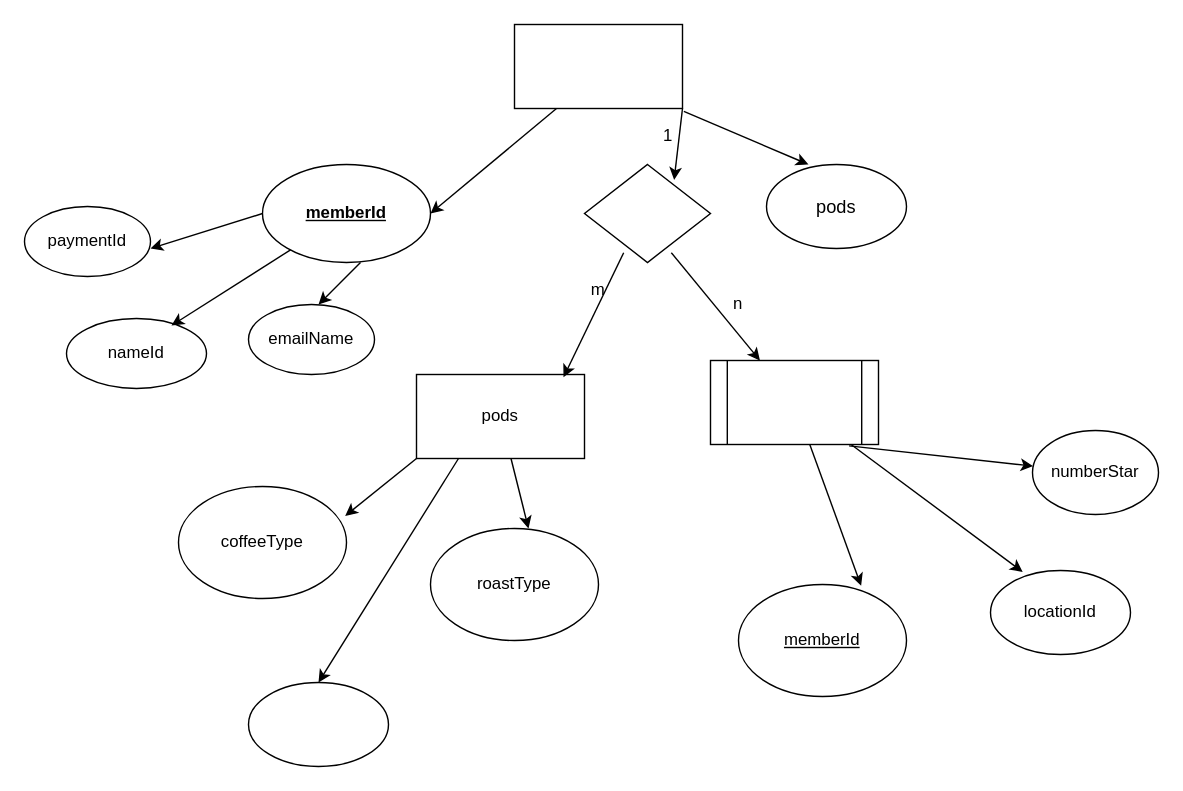
Image size: 1183x791. Some labels were removed from this diagram. Each missing label, with the centre of its shape:
"buys" goes at (646,212).
"customerF" goes at (597,65).
"qtyPods" goes at (317,723).
"starRating" goes at (793,401).
